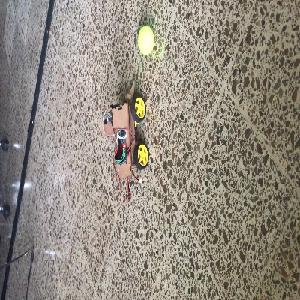Ball: (137, 25, 152, 55)
Robot: (100, 80, 149, 178)
